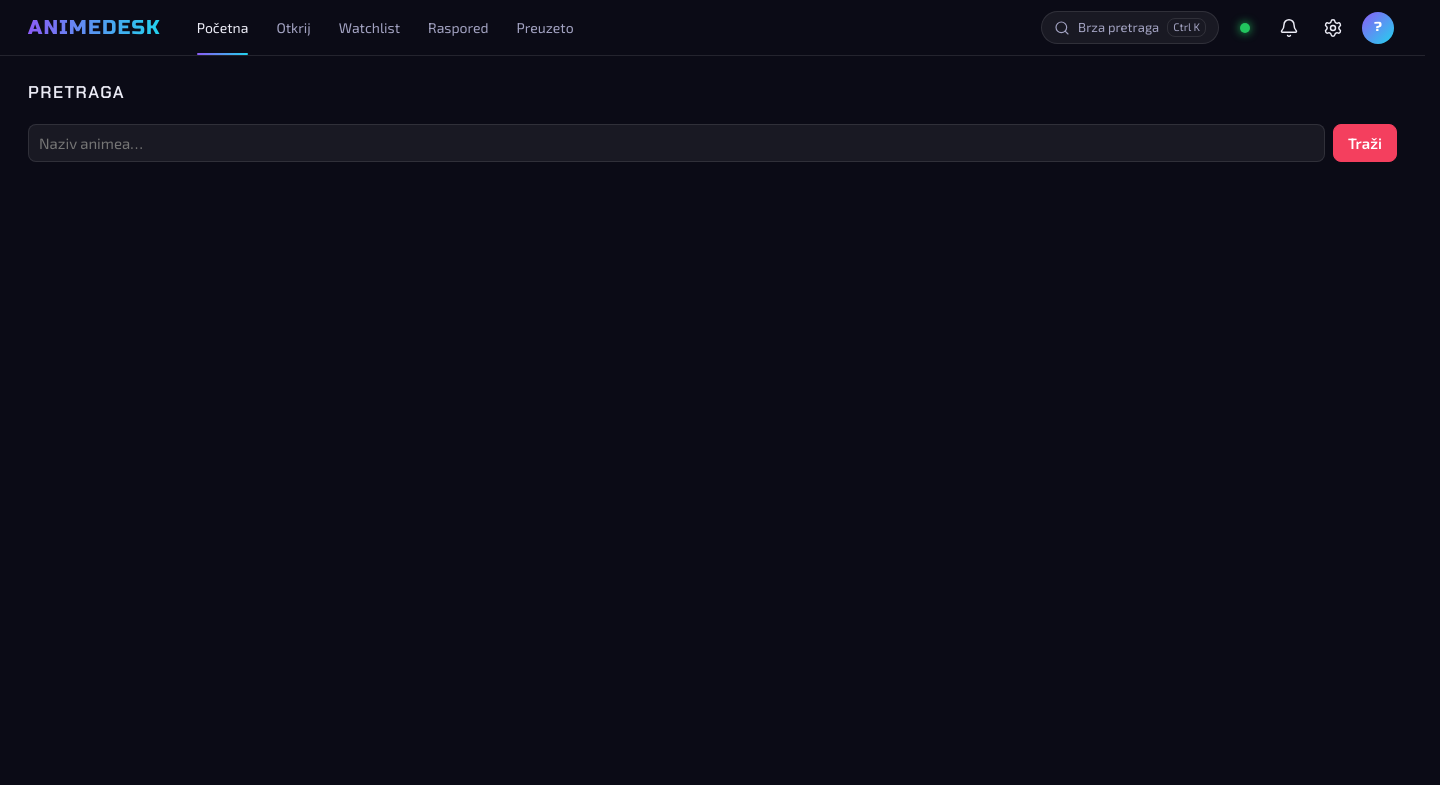
Test: App › after import Settings remounts with the new values and stats are re-read
Click the button named "Podešavanja" at (1333, 28), box [1315,10,1351,46]
(page scrolled)
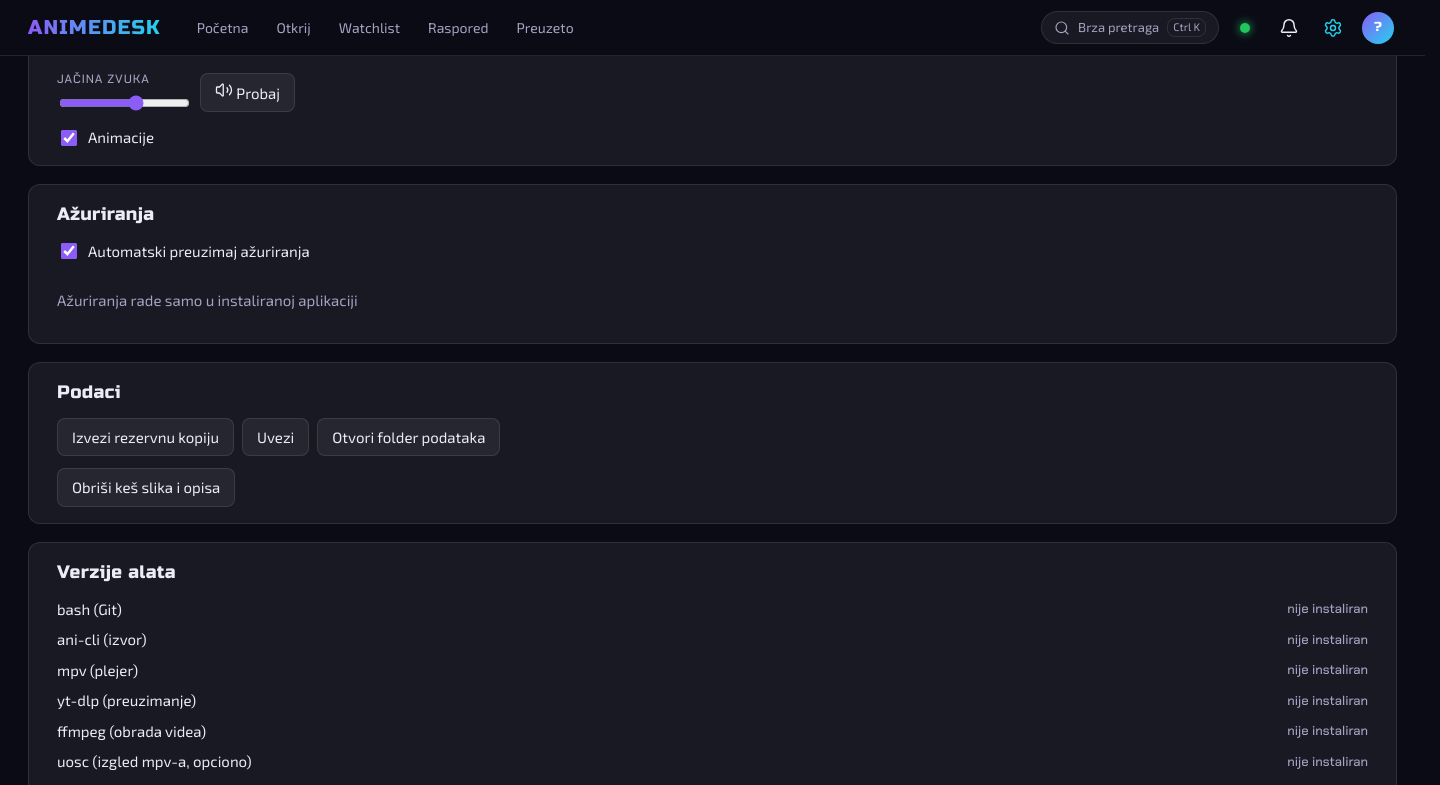
Click the button "Uvezi" at (276, 437), box [242,418,309,456]
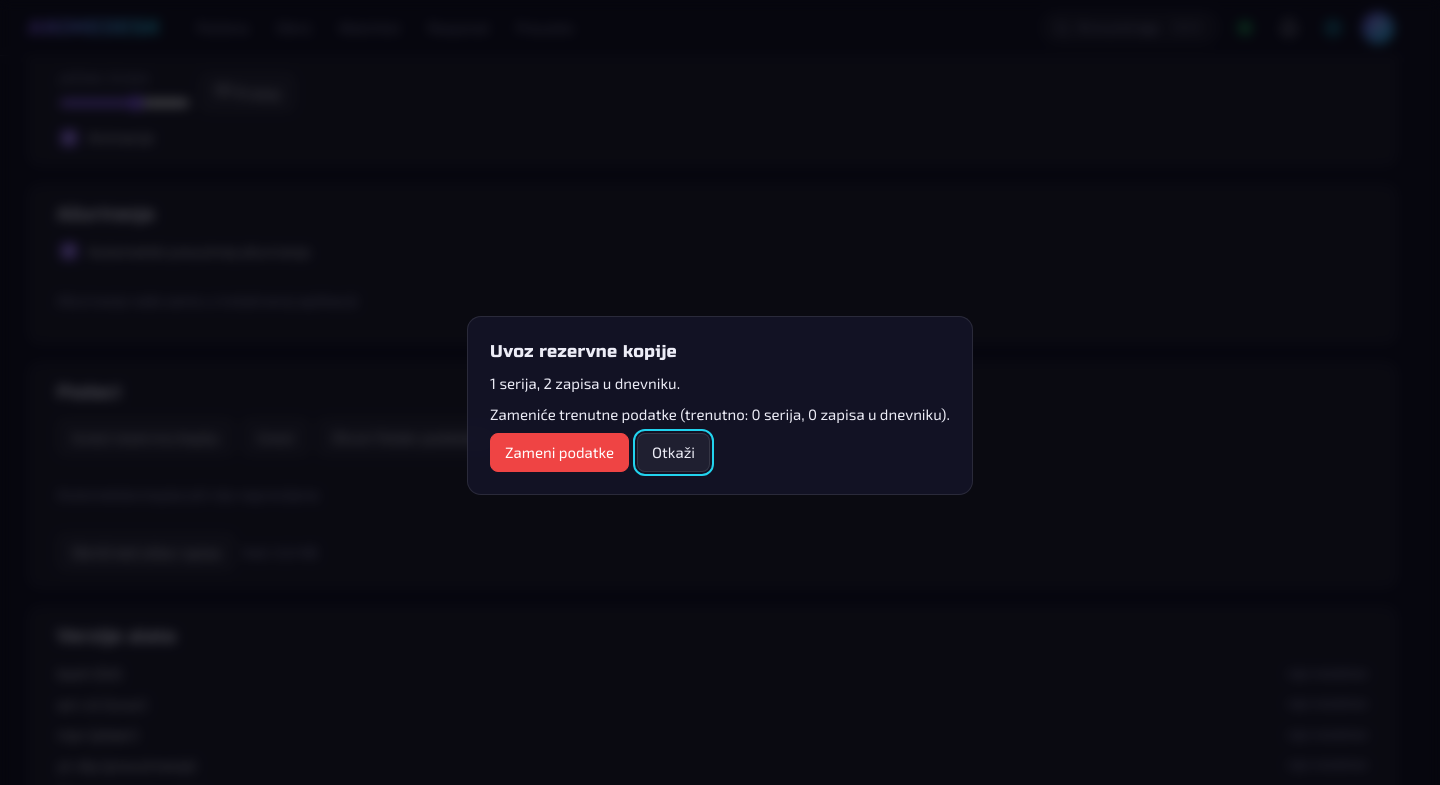
Click the button "Zameni podatke" at (560, 452), box [490,433,629,472]
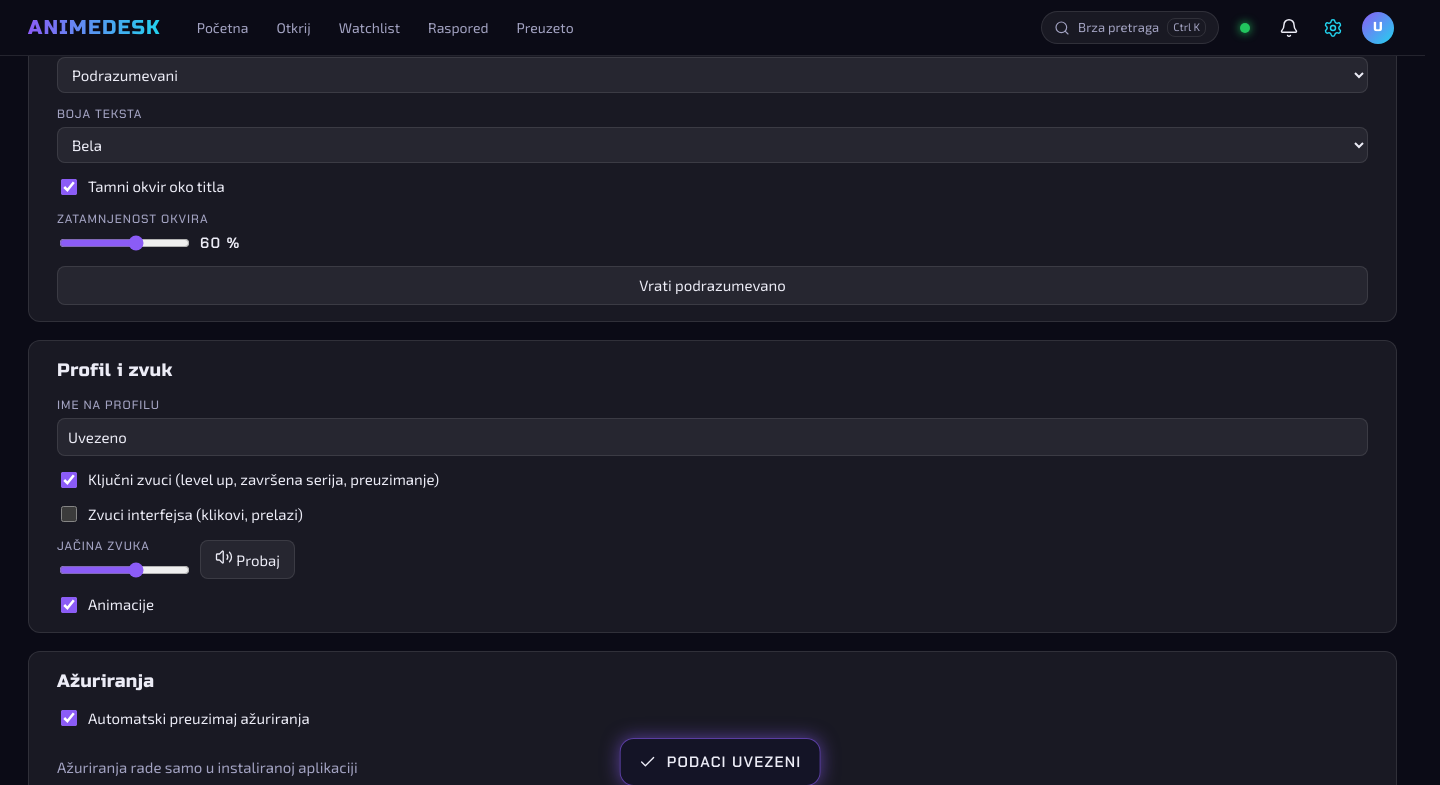
Now the field labelled "Ime na profilu" holds "Uvezeno", box [57,418,1368,456]
